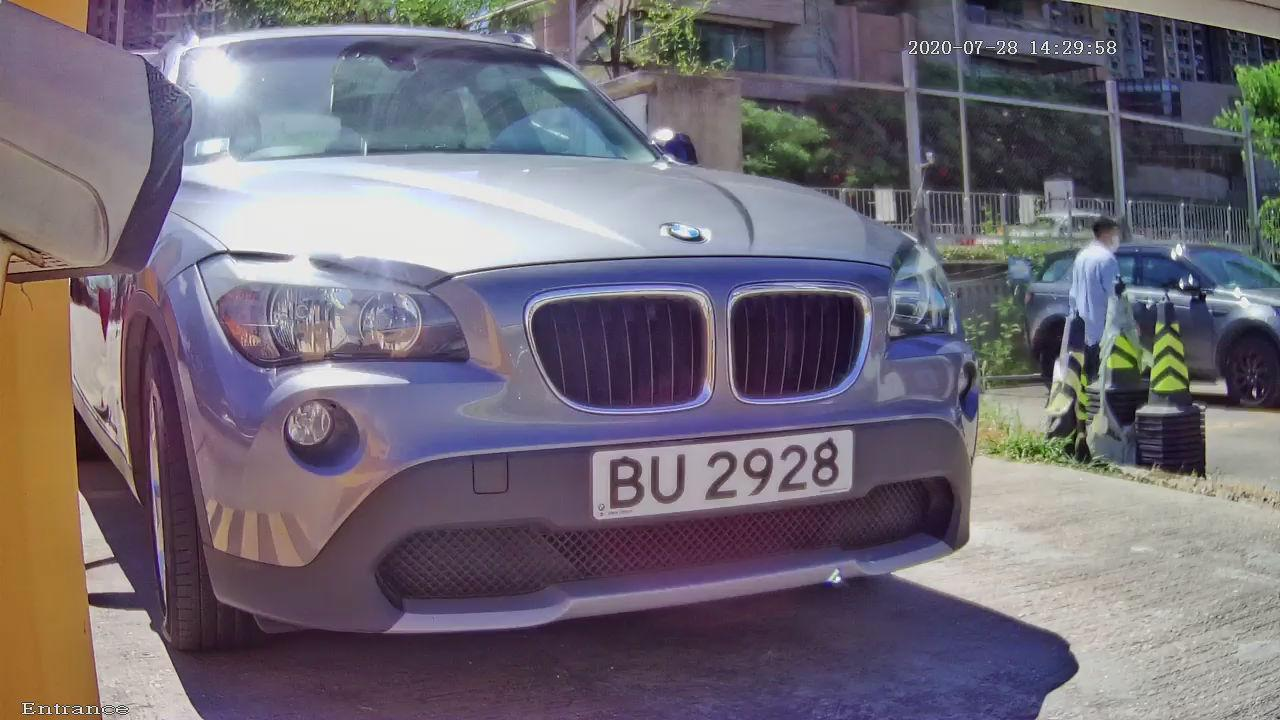privatecar: (18, 23, 1138, 698)
